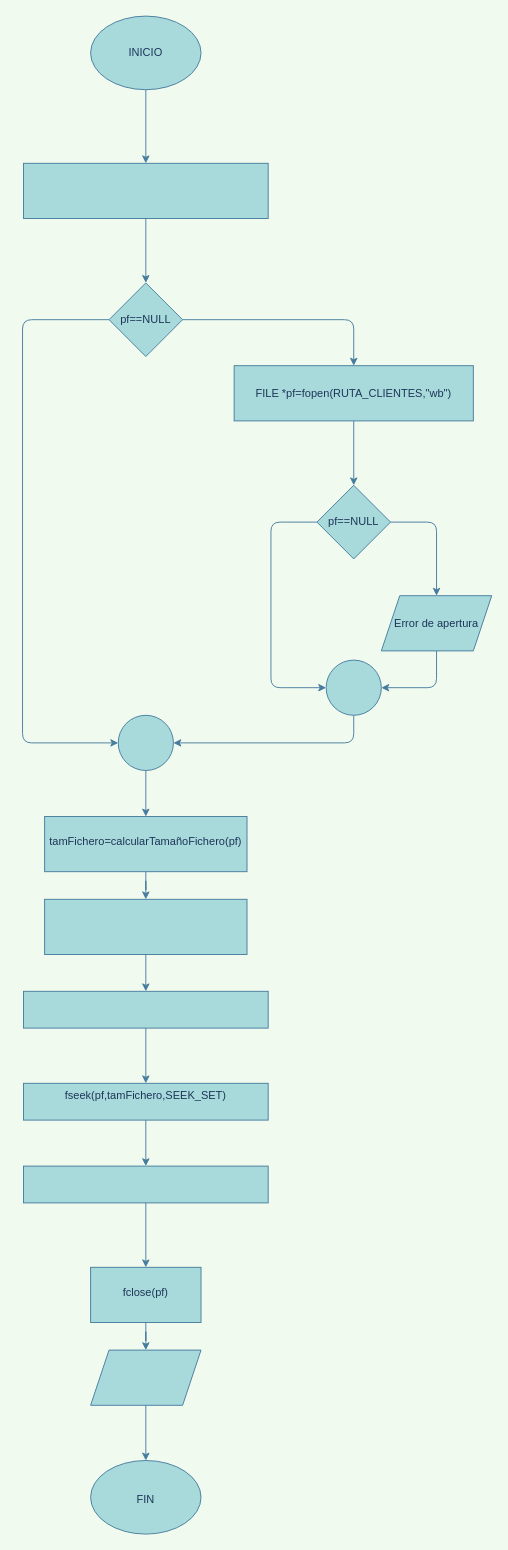
Some shapes in this 508 by 1550 pixel diagram are drawn without their labels. Each missing label, with the box of its shape:
Cliente insertado con exito: (90, 1349, 201, 1405)
FILE *pf=fopen(RUTA_CLIENTES,"rb+"): (23, 162, 268, 218)
fwrite(&reg,sizeof(reg),1,pf): (23, 1165, 268, 1203)
pedirDatosCliente(posSiguienteCliente+1,&reg): (23, 990, 268, 1028)
posSiguienteCliente=tamaño/sizeof(reg): (44, 898, 247, 954)
